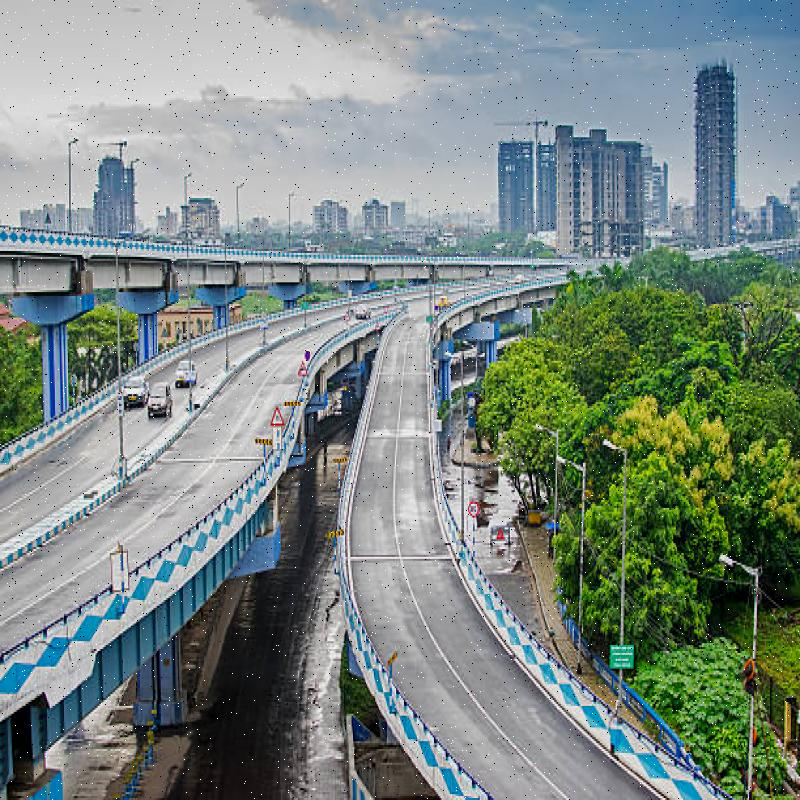car: (142, 379, 178, 425), (115, 352, 141, 411)
